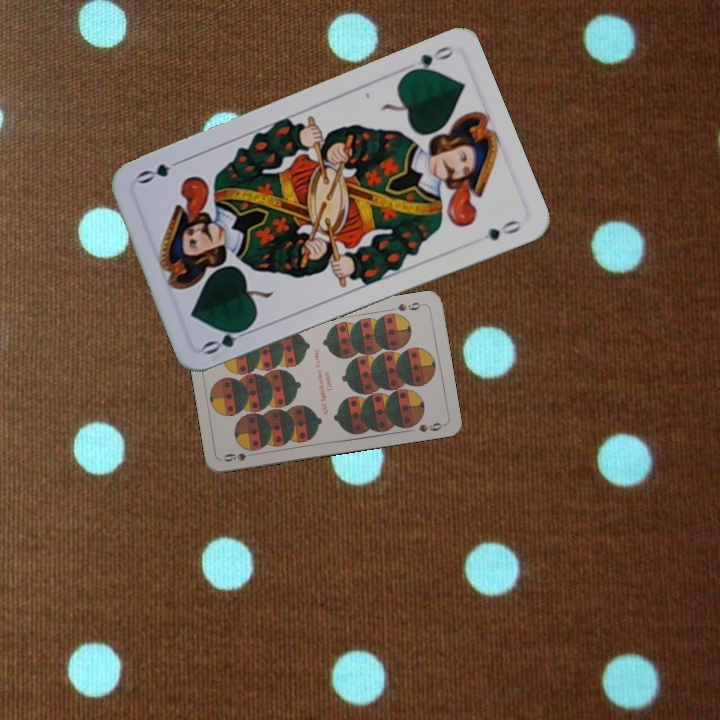GO: (199, 320, 256, 358), (401, 41, 456, 78)
S9: (220, 444, 260, 464), (393, 298, 427, 314)
